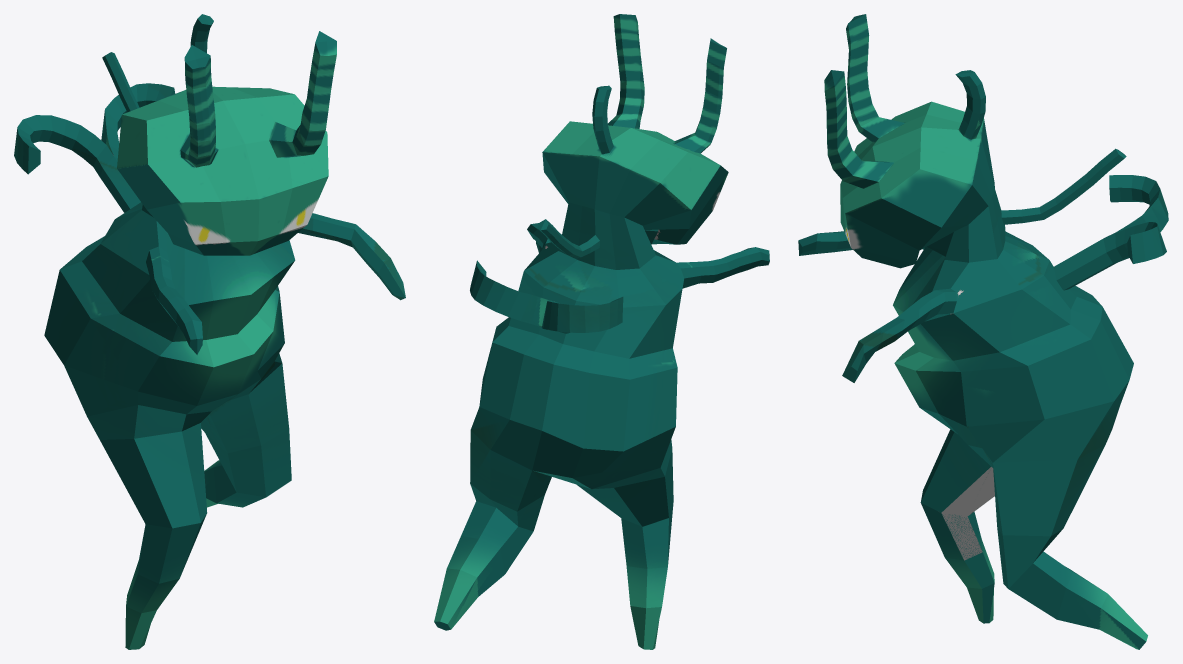
The model's file is monstruo1_caminar_104.obj.
3 renders of one model, left to right at view 1: azimuth 30°, elevation 25°; view 2: azimuth 150°, elevation 25°; view 3: azimuth 270°, elevation 25°, orthographic. The views are drawn at different scales.
Visible parts, largest first — view 1: Monstruo_basico; view 2: Monstruo_basico; view 3: Monstruo_basico.
Boxes of the visible parts, x1,y1,x2,y2 form: Monstruo_basico: (14,14,405,649); Monstruo_basico: (434,14,769,649); Monstruo_basico: (798,14,1168,649).
Size of the model in its own units: 0.3965 by 0.9908 by 0.5515.
